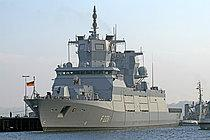MIL_Ship: (22, 12, 185, 133)
